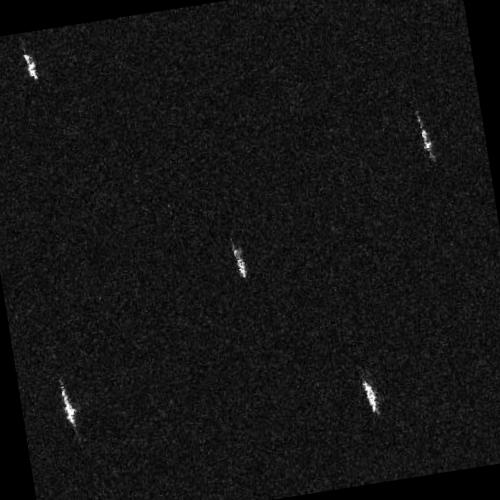ship: (60, 383, 78, 428), (416, 110, 434, 154), (361, 378, 379, 414), (231, 239, 247, 279), (22, 52, 39, 80)
